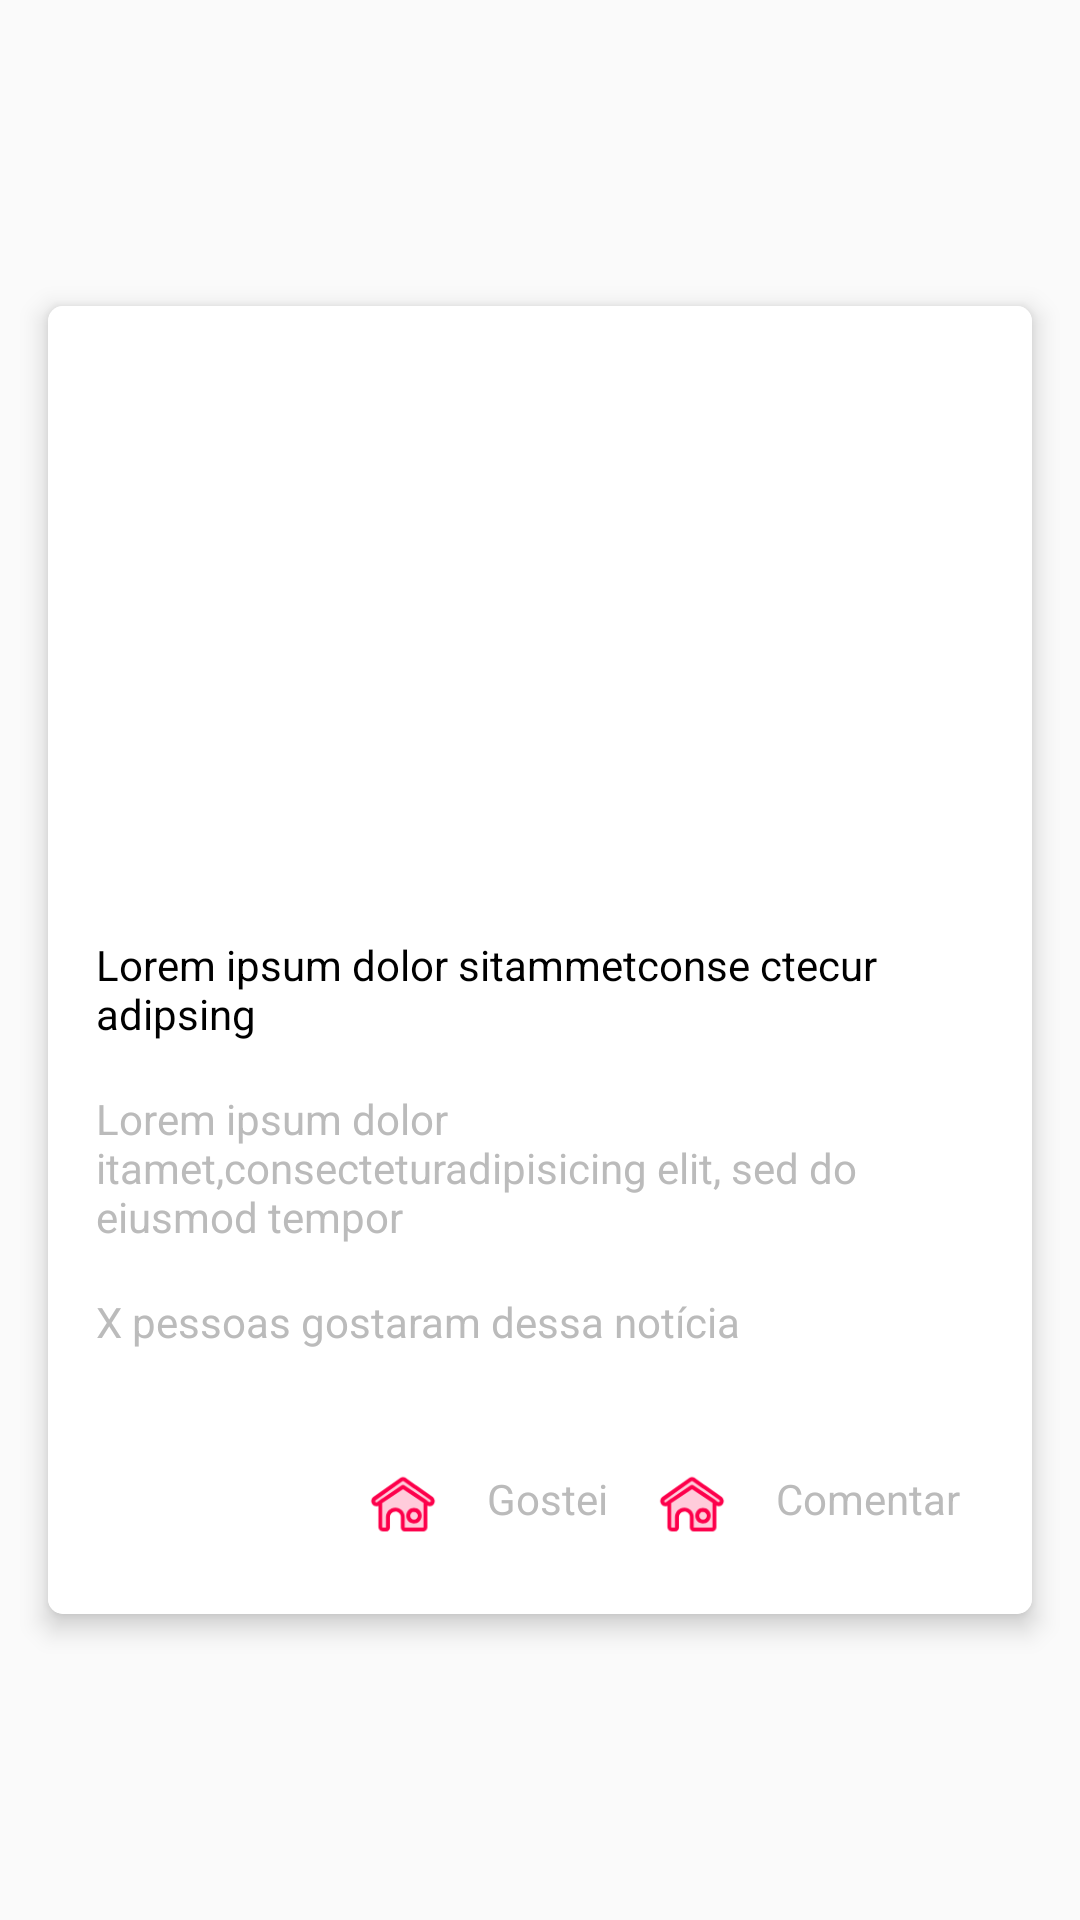

Locate icon controls on the screen. Image size 1080px×1920px, boxes as (x1, y1, x2, y2).
home: (371, 1476, 435, 1532), (660, 1476, 724, 1532)
